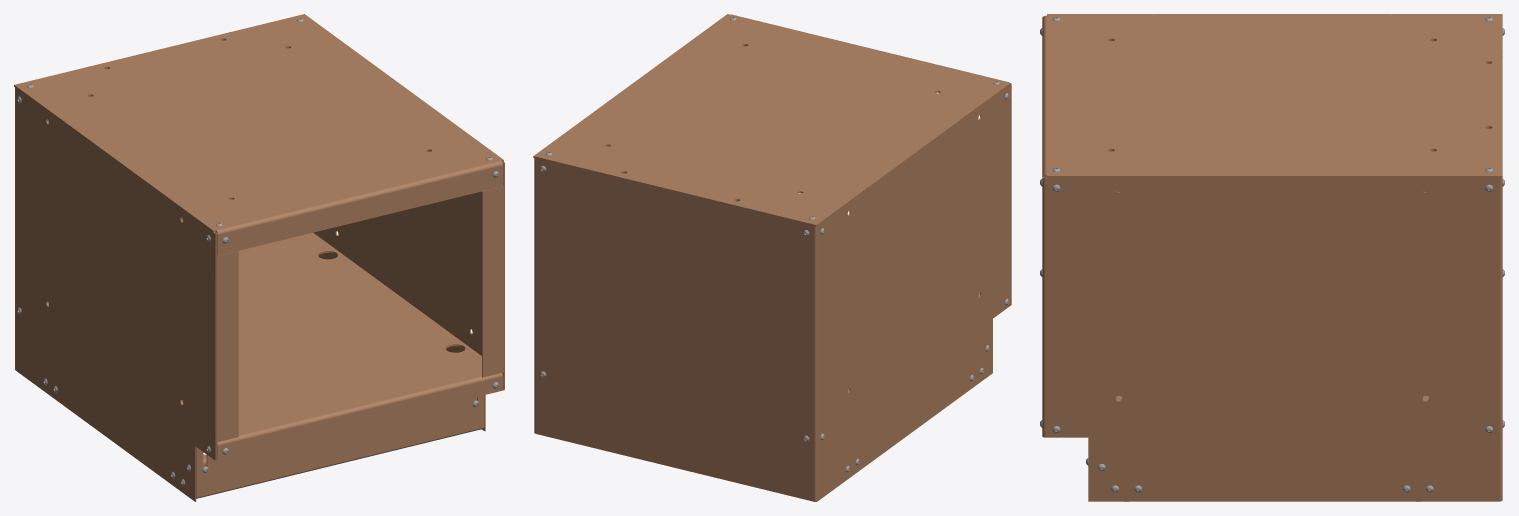
The model's file is tizon500.glb.
3 renders of one model, left to right at view 1: azimuth 30°, elevation 25°; view 2: azimuth 150°, elevation 25°; view 3: azimuth 270°, elevation 25°, orthographic. The views are drawn at different scales.
Parts seen in each view (by area): view 1: corten, stal; view 2: corten; view 3: corten, stal.
Boxes of the visible parts, box(x1,y1,x2,y2) form: corten: box(14, 14, 504, 501); stal: box(17, 18, 498, 485); corten: box(533, 14, 1011, 501); corten: box(1042, 14, 1502, 501); stal: box(1040, 17, 1504, 492).
Bounding box in the file's own units: 0.5059 × 0.473 × 0.6059.
